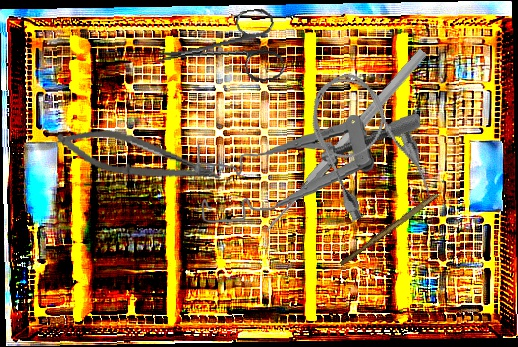Cannula: (293, 58, 440, 232)
Iris Scissors: (149, 6, 286, 96)
Micro Scissor: (52, 120, 226, 193)
Pusher: (260, 45, 430, 237)
Scalpel Handle: (338, 189, 440, 269)
Speculum: (191, 110, 427, 225)
